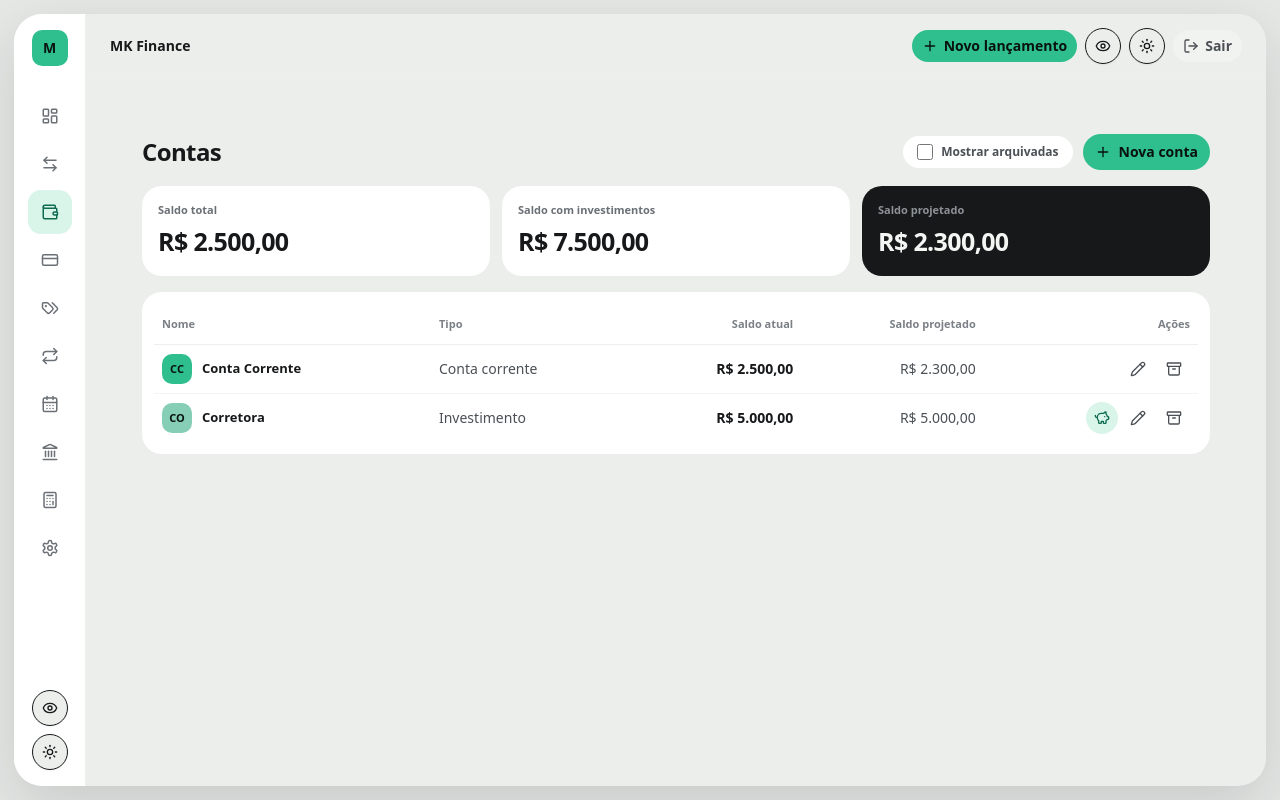
it: quick entry from the app shell › opens the quick entry modal from /accounts
What coordinates should you click on to do the following:
click the button "Novo lançamento"
I would click on:
 (994, 46)
Its box is [912, 30, 1077, 62].
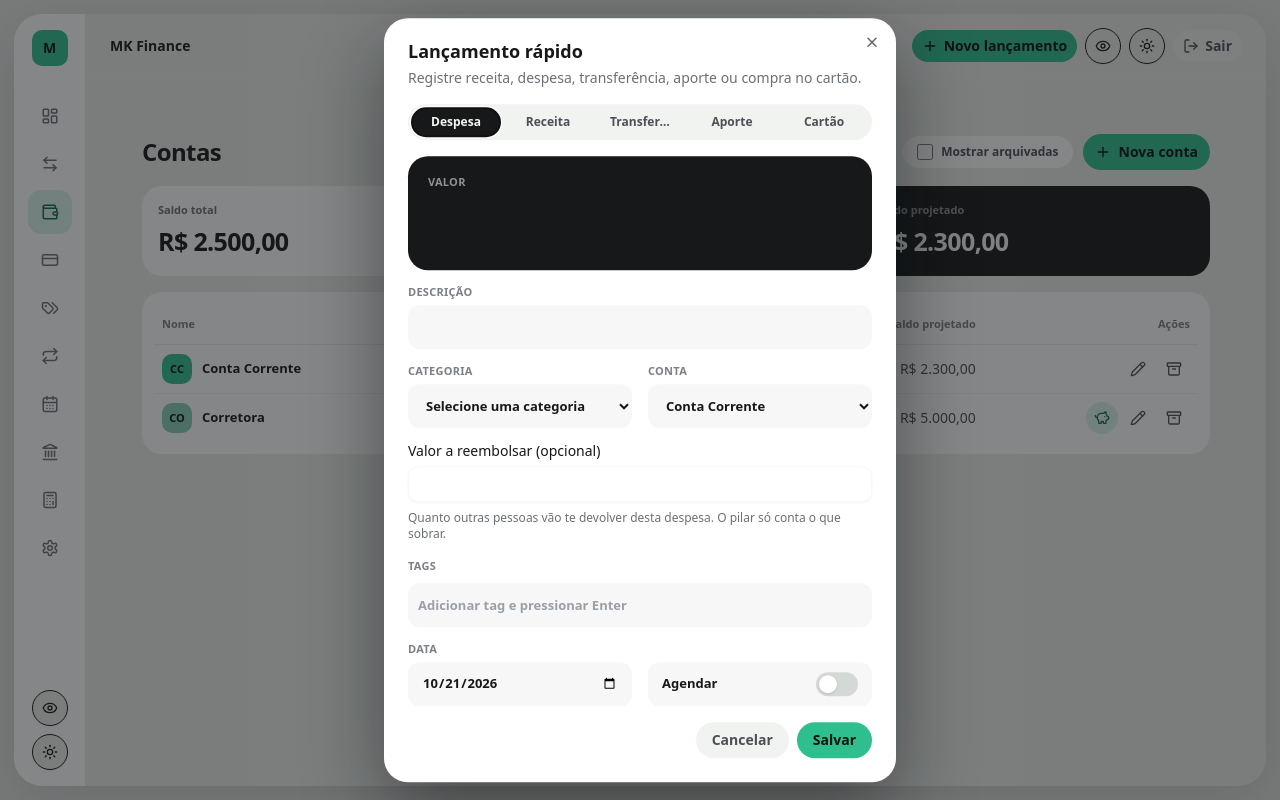
Expected: the tab "Aporte" is shown, [688, 108, 776, 136]
